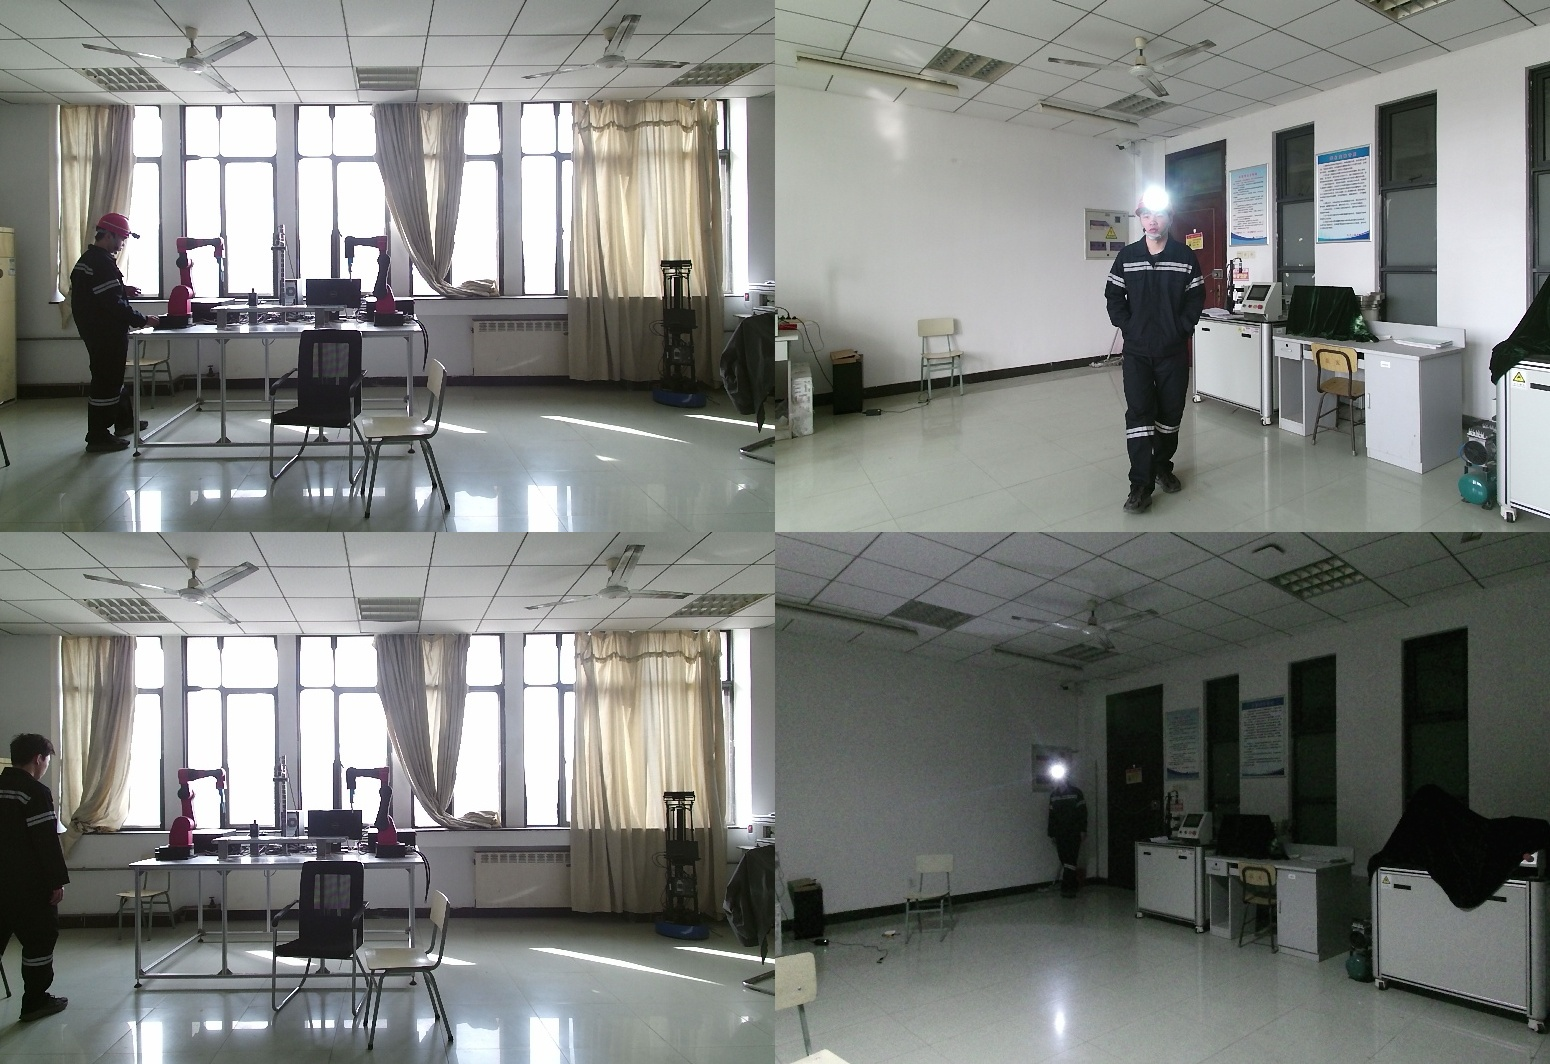person: (1097, 191, 1219, 513), (68, 215, 162, 457), (2, 734, 75, 1030), (1040, 769, 1088, 899)
